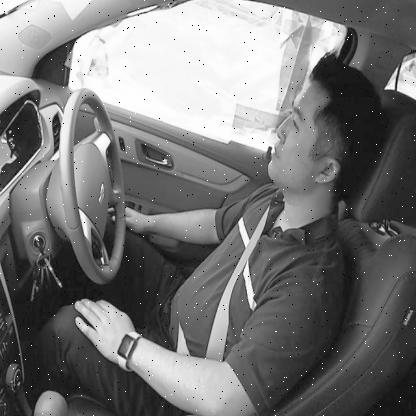seatbelt: (198, 58, 396, 342)
